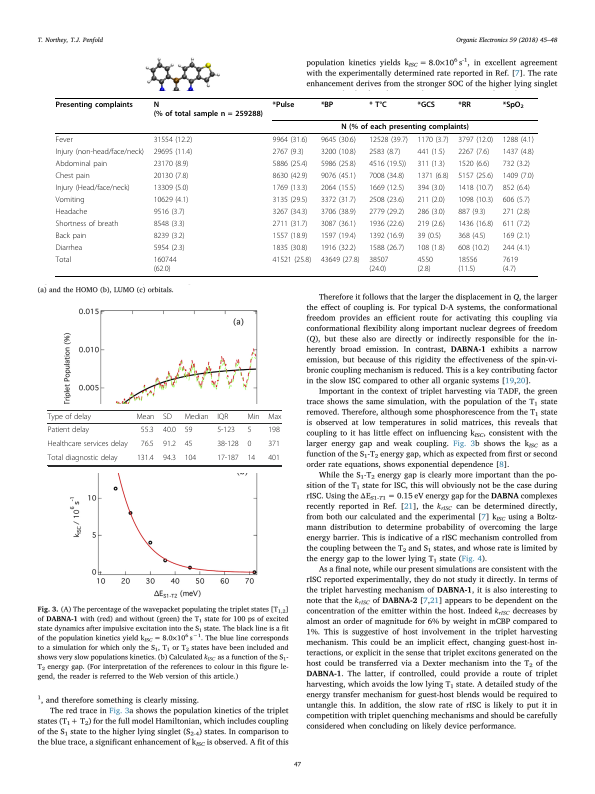borderless: (54, 96, 538, 276), (46, 409, 281, 465)
cell: (153, 100, 264, 118), (340, 122, 470, 132), (55, 147, 145, 157), (47, 440, 129, 450), (55, 183, 131, 193), (47, 454, 119, 464), (55, 100, 134, 109), (55, 219, 119, 229), (55, 159, 108, 169), (153, 255, 177, 273), (47, 426, 90, 436), (368, 135, 409, 145), (47, 413, 92, 422), (153, 135, 193, 145), (153, 147, 193, 157), (368, 159, 407, 169), (368, 255, 389, 273), (457, 255, 478, 273), (320, 135, 357, 145), (457, 135, 494, 145), (320, 147, 357, 157), (320, 159, 357, 169), (320, 171, 357, 181), (368, 171, 405, 181), (457, 171, 494, 181), (320, 183, 357, 193), (368, 183, 405, 193), (457, 183, 494, 193), (320, 195, 357, 205), (368, 195, 405, 205), (457, 195, 494, 205), (320, 207, 357, 217), (368, 207, 405, 217), (320, 219, 357, 229), (368, 219, 405, 229), (457, 219, 494, 229), (272, 135, 308, 145), (153, 159, 189, 169), (272, 159, 308, 169), (55, 171, 91, 181), (153, 171, 189, 181), (272, 171, 308, 181), (153, 183, 189, 193), (272, 183, 308, 193), (153, 195, 189, 205), (272, 195, 308, 205), (272, 207, 308, 217), (272, 219, 308, 229), (272, 255, 312, 264), (320, 255, 360, 264), (320, 231, 357, 240), (368, 231, 405, 240), (320, 243, 357, 252), (368, 243, 405, 252), (416, 135, 449, 145), (502, 135, 535, 145), (272, 147, 305, 157), (368, 147, 401, 157), (457, 147, 490, 157), (502, 147, 535, 157), (457, 159, 490, 169), (416, 171, 449, 181), (502, 171, 535, 181), (55, 207, 88, 217), (153, 207, 186, 217), (153, 219, 186, 229), (272, 231, 308, 240), (272, 243, 308, 252), (416, 255, 434, 273), (502, 255, 519, 273), (416, 147, 446, 157), (416, 159, 446, 169), (416, 183, 446, 193), (55, 195, 85, 205), (416, 195, 446, 205), (416, 207, 446, 217), (416, 219, 446, 229), (153, 231, 186, 240), (153, 243, 186, 252), (457, 243, 490, 252), (502, 159, 531, 169), (502, 183, 531, 193), (502, 195, 531, 205), (457, 207, 486, 217), (502, 207, 531, 217), (502, 219, 531, 229), (55, 231, 87, 240), (416, 243, 446, 252), (457, 231, 486, 240), (502, 231, 531, 240), (502, 243, 531, 252), (55, 243, 83, 252), (216, 440, 240, 450), (216, 454, 240, 464), (416, 231, 442, 240), (502, 100, 525, 110), (184, 413, 209, 422), (272, 100, 295, 109), (216, 426, 236, 436), (136, 454, 155, 464), (55, 135, 74, 145), (135, 413, 155, 422), (368, 100, 388, 109), (416, 100, 436, 109), (55, 255, 72, 264), (140, 426, 155, 436), (162, 426, 177, 436), (140, 440, 155, 450), (162, 440, 177, 450), (162, 454, 177, 464), (267, 426, 281, 436), (267, 440, 281, 450), (267, 454, 281, 464), (267, 413, 282, 422), (457, 100, 472, 109), (184, 454, 197, 464), (246, 413, 260, 422), (320, 100, 334, 109), (216, 413, 229, 422), (246, 454, 256, 464), (162, 413, 173, 422), (184, 426, 193, 436), (184, 440, 193, 450), (246, 426, 252, 436), (246, 440, 252, 450)
